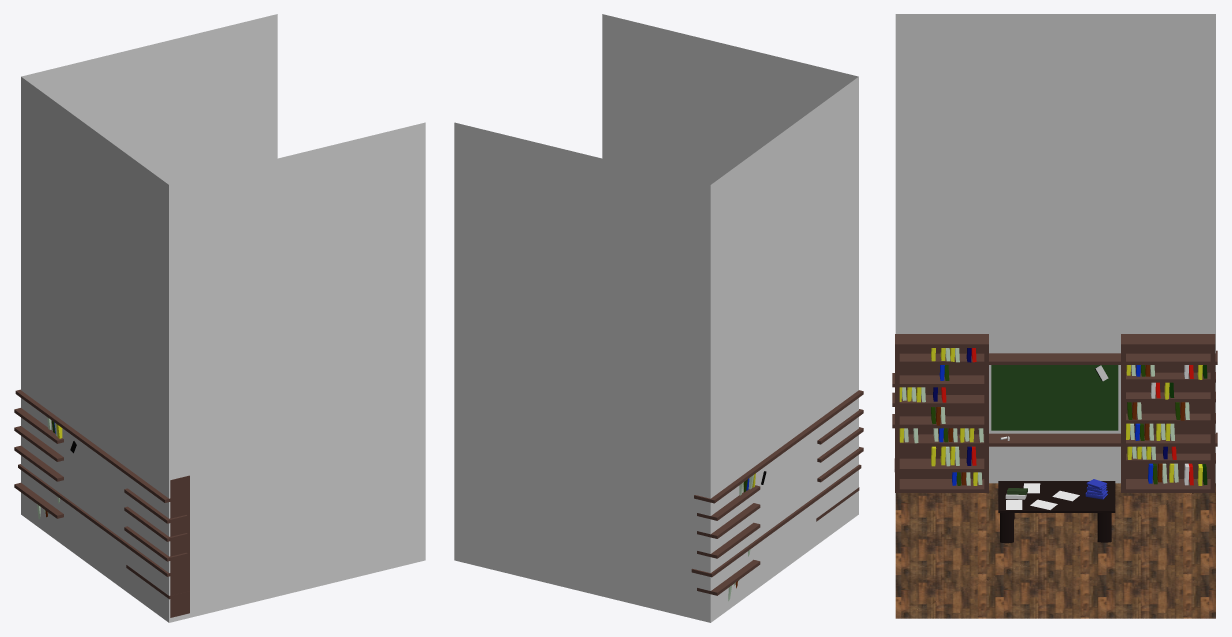
The model's file is salleJournal.glb.
The picture shows the model from 3 angles, left to right: view 1: azimuth 30°, elevation 25°; view 2: azimuth 150°, elevation 25°; view 3: azimuth 270°, elevation 25°; orthographic projection. The views are drawn at different scales.
Visible parts, largest first — view 1: Cube, Cube.046, Cube.006, Cube.047; view 2: Cube, Cube.006, Cube.047; view 3: Cube, Cube.084, Plane, Cube.002, Cube.046, Cube.047, Cube.006, Cube.001, Cube.008, Cube.050, Cube.049, Cube.048 (+4 smaller).
Boxes of the visible parts, x1,y1,x2,y2 form: Cube: [21, 14, 425, 622]; Cube.046: [170, 475, 189, 617]; Cube.006: [15, 389, 170, 502]; Cube.047: [18, 464, 170, 576]; Cube: [454, 14, 858, 622]; Cube.006: [694, 390, 863, 503]; Cube.047: [691, 464, 861, 577]; Cube: [895, 14, 1215, 483]; Cube.084: [895, 483, 1215, 618]; Plane: [991, 365, 1118, 430]; Cube.002: [1121, 334, 1215, 492]; Cube.046: [895, 334, 988, 492]; Cube.047: [899, 432, 1217, 446]; Cube.006: [899, 350, 1217, 364]; Cube.001: [998, 481, 1115, 512]; Cube.008: [892, 373, 984, 387]; Cube.050: [894, 458, 984, 472]; Cube.049: [892, 414, 984, 428]; Cube.048: [892, 392, 984, 406].
Bounding box in the file's own units: 2.86 × 4.55 × 2.83.
28 materials, 1 textured.
